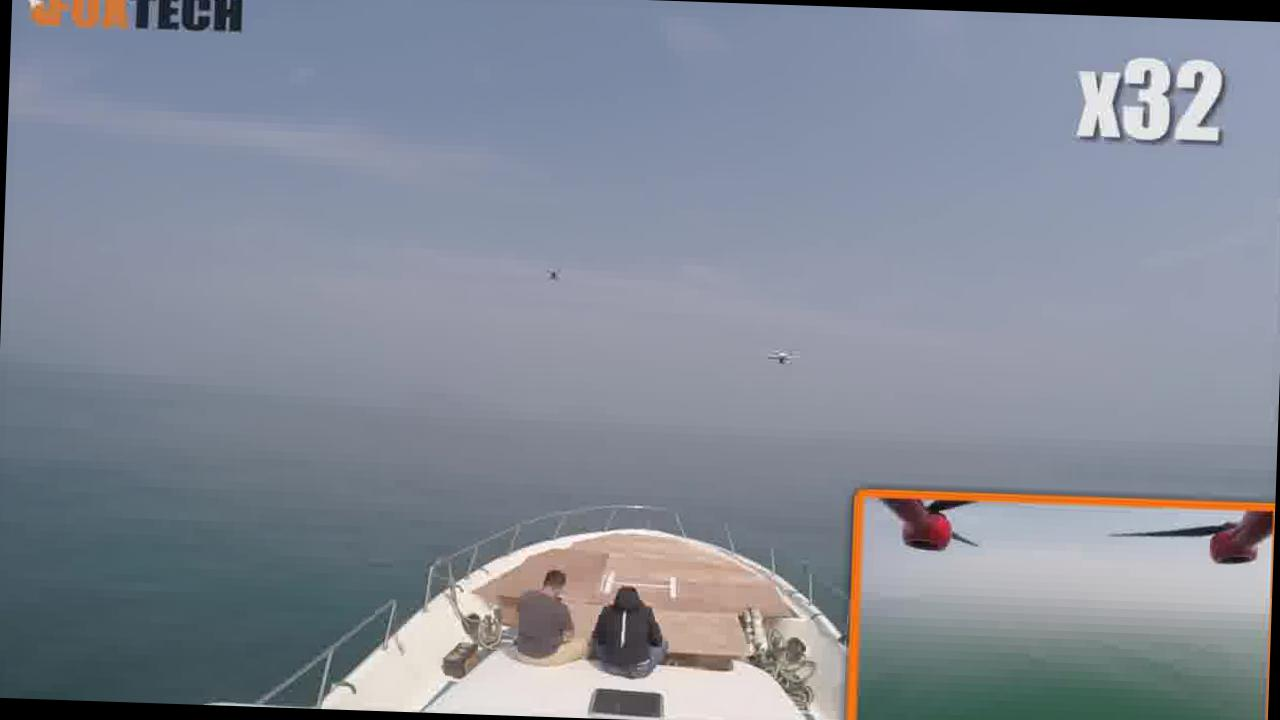drone: (766, 334, 806, 378), (538, 246, 572, 290)
